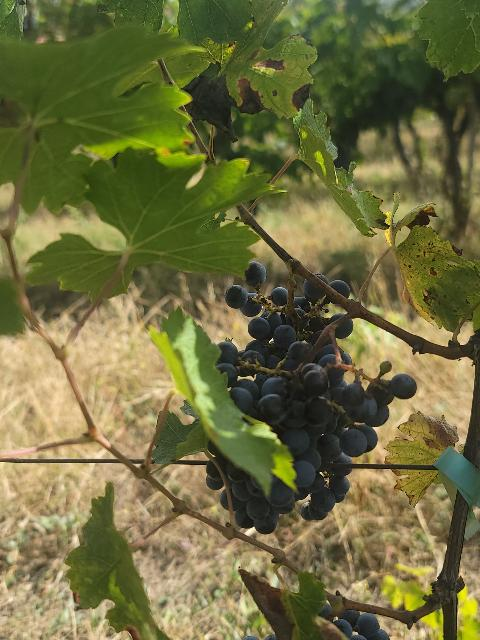grapes: (215, 362, 416, 534), (218, 281, 342, 380)
